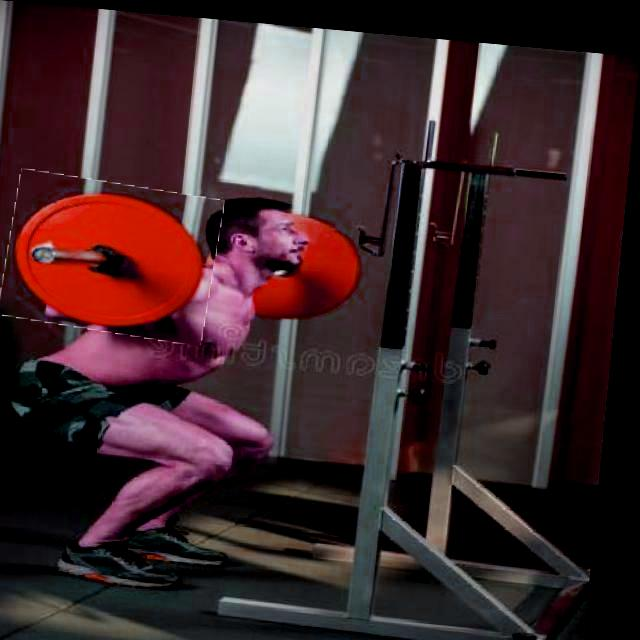barbell: (6, 172, 227, 340)
